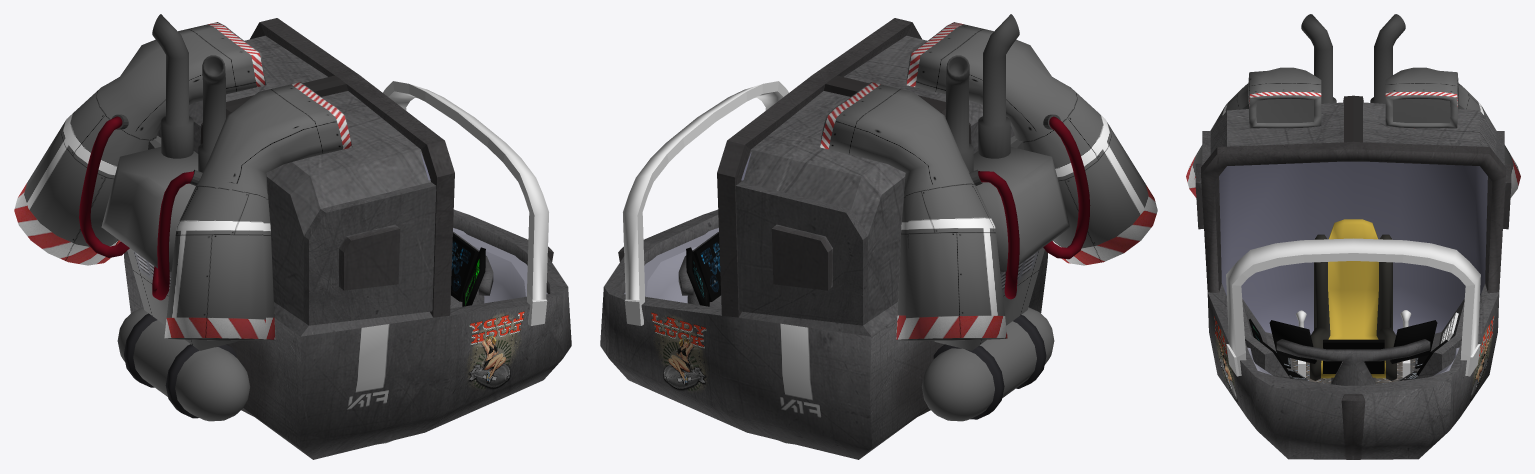
The model's file is cockpit.fbx.
The picture shows the model from 3 angles, left to right: view 1: azimuth 30°, elevation 25°; view 2: azimuth 150°, elevation 25°; view 3: azimuth 270°, elevation 25°; orthographic projection. The views are drawn at different scales.
Parts seen in each view (by area): view 1: cockpit, jet_pack_assembly, fuel_cell, exhaust_pipes, cockpit_mount, center_panel, cockpit_inside, fuel_line1, fuel_line2; view 2: cockpit, jet_pack_assembly, fuel_cell, exhaust_pipes, cockpit_mount, center_panel, cockpit_inside, fuel_line2, fuel_line1; view 3: cockpit, cockpit_inside, jet_pack_assembly, cockpit_mount, Cube, center_panel, side_panels, exhaust_pipes.
Part boxes in pixels (x1,y1,x2,y2): cockpit: (124,18,571,459); jet_pack_assembly: (14,22,352,350); fuel_cell: (117,307,250,421); exhaust_pipes: (152,14,225,172); cockpit_mount: (383,81,548,325); center_panel: (450,232,493,308); cockpit_inside: (420,152,547,303); fuel_line1: (79,116,129,257); fuel_line2: (152,171,193,300); cockpit: (600,18,1047,459); jet_pack_assembly: (819,22,1157,350); fuel_cell: (921,307,1054,421); exhaust_pipes: (946,14,1019,172); cockpit_mount: (623,81,788,325); center_panel: (678,232,721,308); cockpit_inside: (624,152,751,303); fuel_line2: (1043,116,1090,259); fuel_line1: (978,171,1019,299); cockpit: (1195,95,1511,459); cockpit_inside: (1219,161,1487,383); jet_pack_assembly: (1186,67,1520,197); cockpit_mount: (1226,238,1480,376); Cube: (1310,219,1396,380); center_panel: (1269,320,1437,385); side_panels: (1242,299,1464,381); exhaust_pipes: (1301,14,1405,103).
Size of the model in its own units: 312 by 285 by 246.
